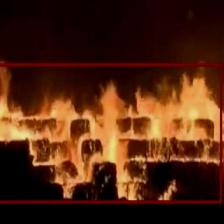fire: (0, 63, 222, 202)
